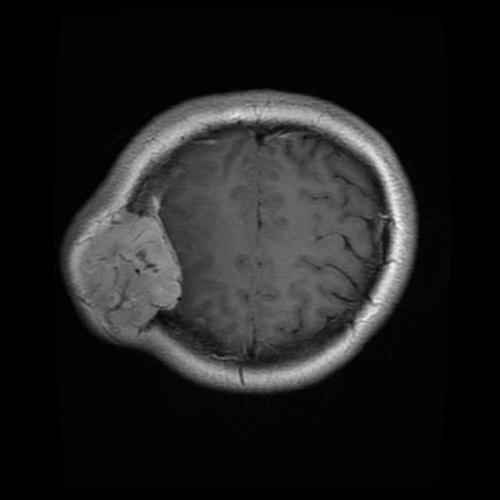Tumour-Meningioma: (54, 184, 197, 356)
